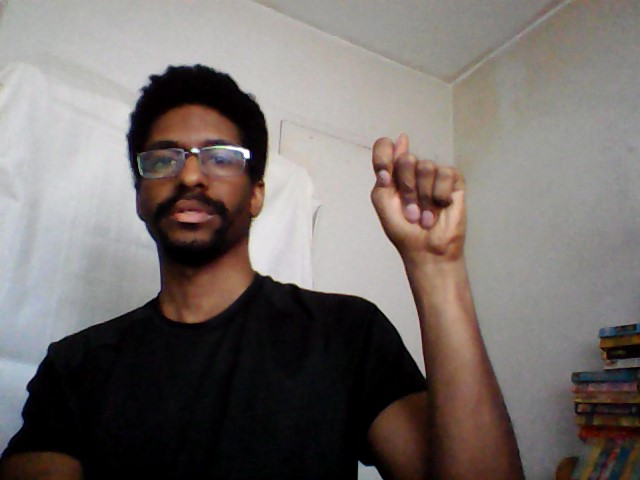t: (363, 130, 474, 259)
